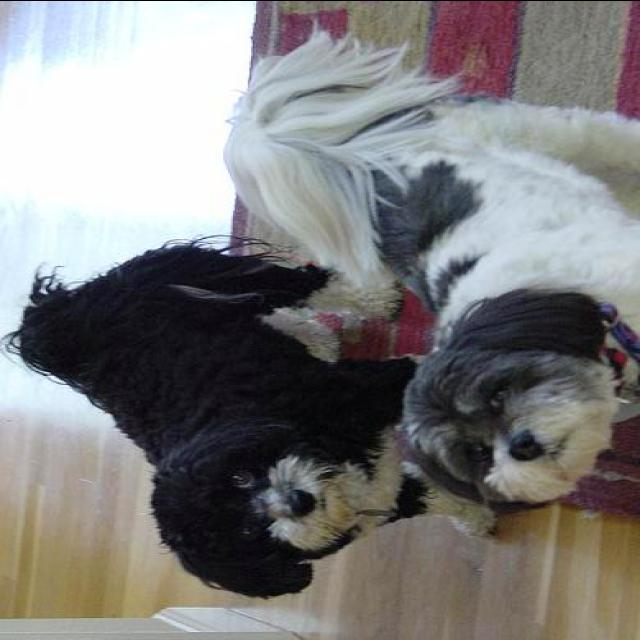shih_tzu: (224, 26, 638, 510), (18, 242, 499, 602)
